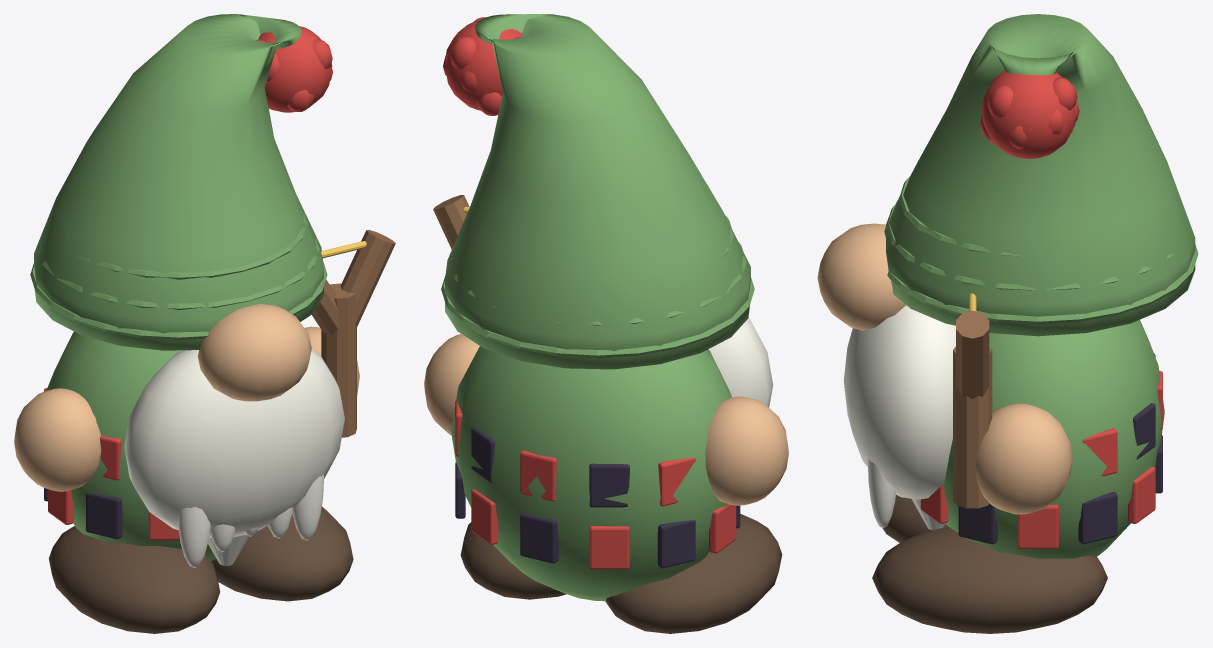
File: gnome-sprout.glb
3 renders of one model, left to right at view 1: azimuth 30°, elevation 25°; view 2: azimuth 150°, elevation 25°; view 3: azimuth 270°, elevation 25°, orthographic. The views are drawn at different scales.
Visible parts, largest first — view 1: gnome-sprout; view 2: gnome-sprout; view 3: gnome-sprout.
Boxes of the visible parts, box(x1,y1,x2,y2) form: gnome-sprout: box(14, 14, 395, 633); gnome-sprout: box(424, 14, 788, 633); gnome-sprout: box(817, 14, 1198, 633).
Bounding box in the file's own units: 1 × 1.46 × 0.872.
